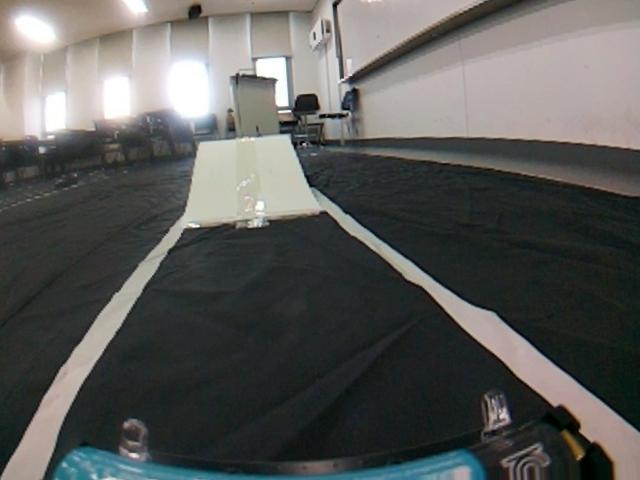hill_up: (178, 130, 338, 231)
straight: (6, 236, 640, 479)
